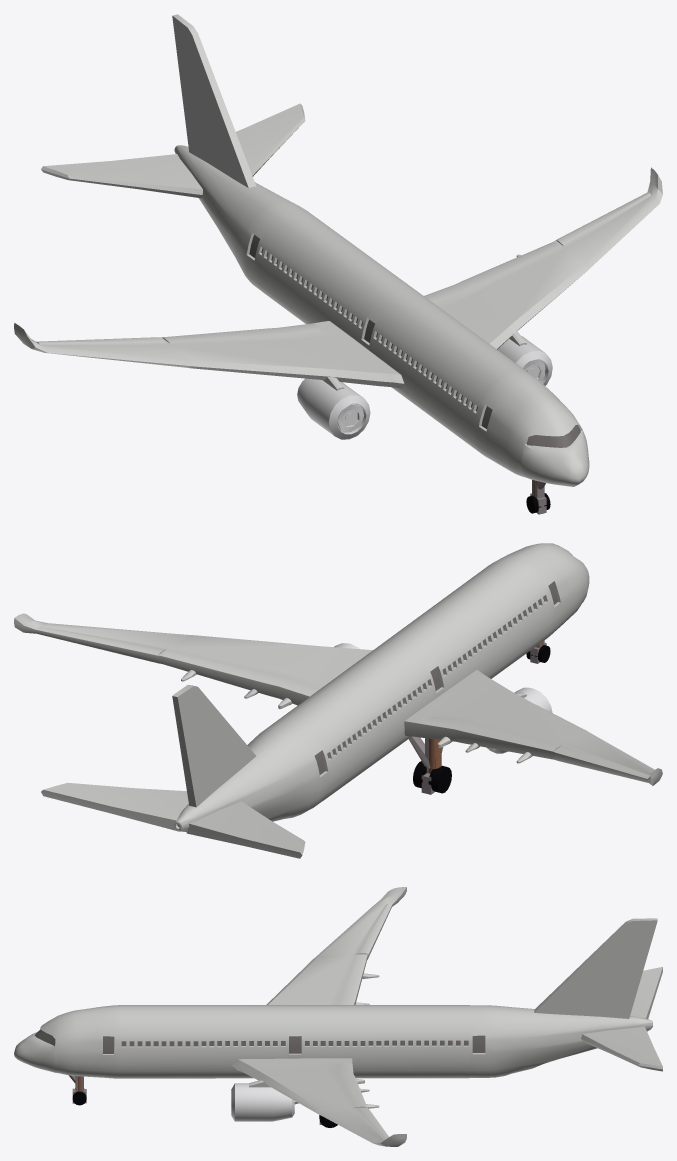
Rendered from AirplaneForFreefbx.fbx.
The picture shows the model from 3 angles, top to bottom: view 1: azimuth 30°, elevation 25°; view 2: azimuth 150°, elevation 25°; view 3: azimuth 270°, elevation 25°; orthographic projection. The views are drawn at different scales.
Visible parts, largest first — view 1: A_AirPlane1; view 2: A_AirPlane1; view 3: A_AirPlane1.
Boxes of the visible parts, x1,y1,x2,y2 form: A_AirPlane1: (14, 14, 662, 514); A_AirPlane1: (14, 543, 662, 858); A_AirPlane1: (14, 887, 662, 1146).
Bounding box in the file's own units: 35.86 × 12.43 × 39.74.
Materials: 2 (2 with a texture image).
